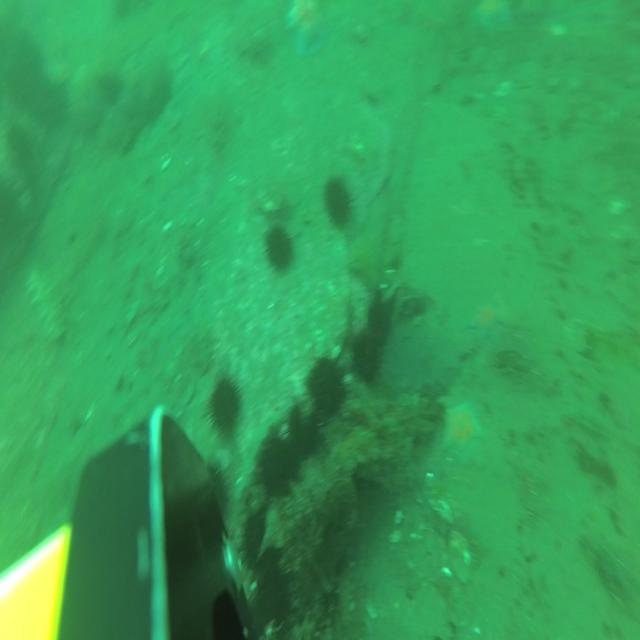echinus: (190, 459, 234, 537), (255, 432, 297, 505), (308, 354, 352, 423), (242, 501, 282, 573), (254, 564, 292, 632), (287, 395, 325, 462), (207, 374, 243, 441), (324, 175, 356, 232), (261, 224, 295, 276)
starfish: (441, 401, 485, 467), (283, 0, 328, 58), (470, 296, 506, 346), (472, 0, 512, 39)
